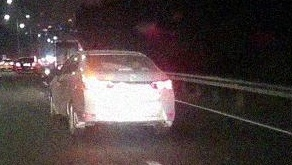L_light: (84, 79, 105, 91)
R_light: (150, 79, 173, 90)
T_light: (111, 55, 123, 57)
night-no: (82, 51, 174, 134)
